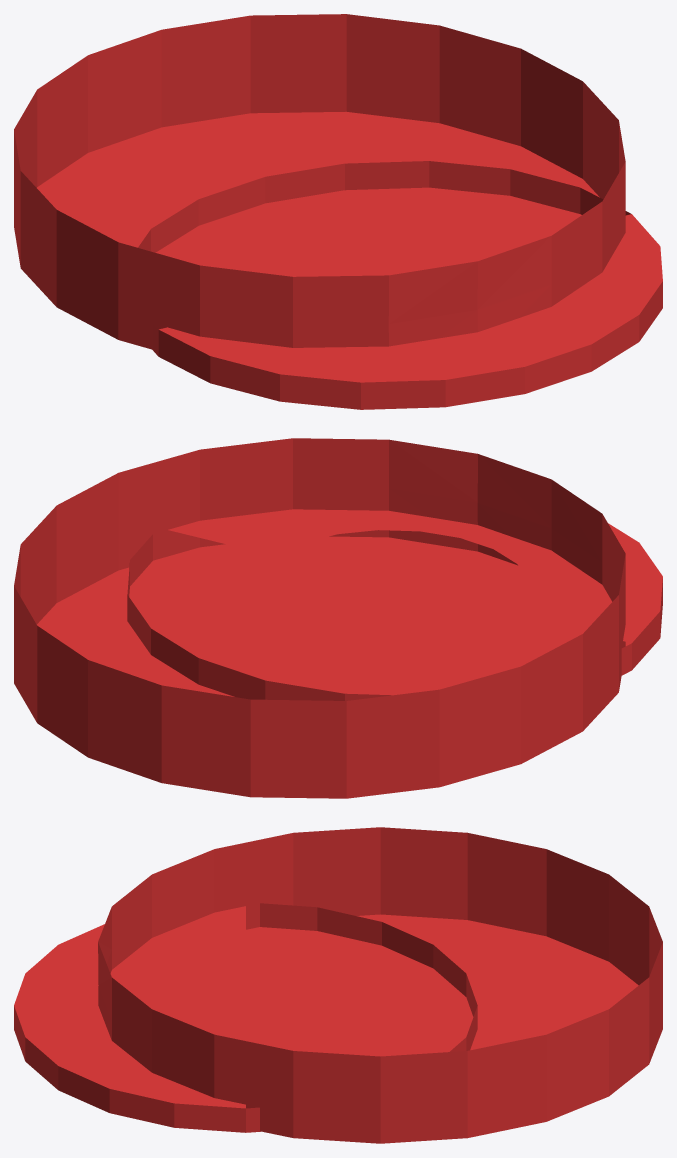
The model's file is hat_1__Object_6.glb.
3 views of the same model, one above another, from view 1: azimuth 30°, elevation 25°; view 2: azimuth 150°, elevation 25°; view 3: azimuth 270°, elevation 25° (orthographic). The views are drawn at different scales.
Visible parts, largest first — view 1: geometry_0; view 2: geometry_0; view 3: geometry_0.
Part boxes in pixels (x1=…): geometry_0: x1=14, y1=14, x2=662, y2=409; geometry_0: x1=14, y1=438, x2=662, y2=798; geometry_0: x1=14, y1=827, x2=662, y2=1143.
Bounding box in the file's own units: 1.2 × 0.2136 × 1.43.
